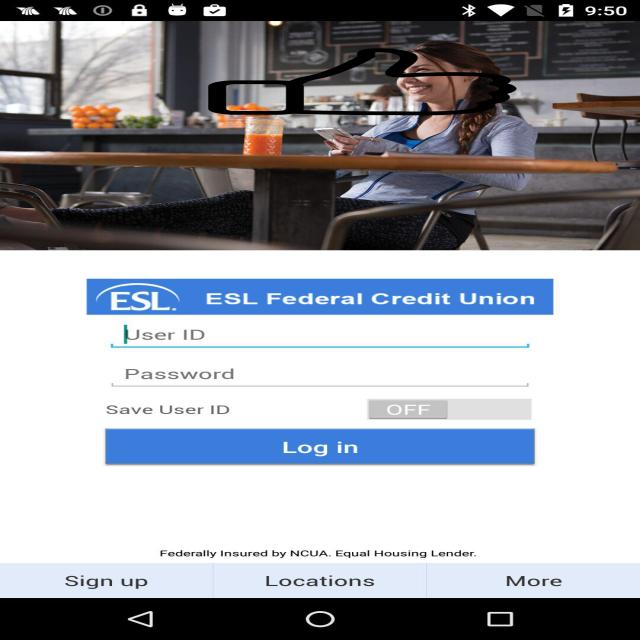privacy zuckering: (204, 48, 521, 115)
